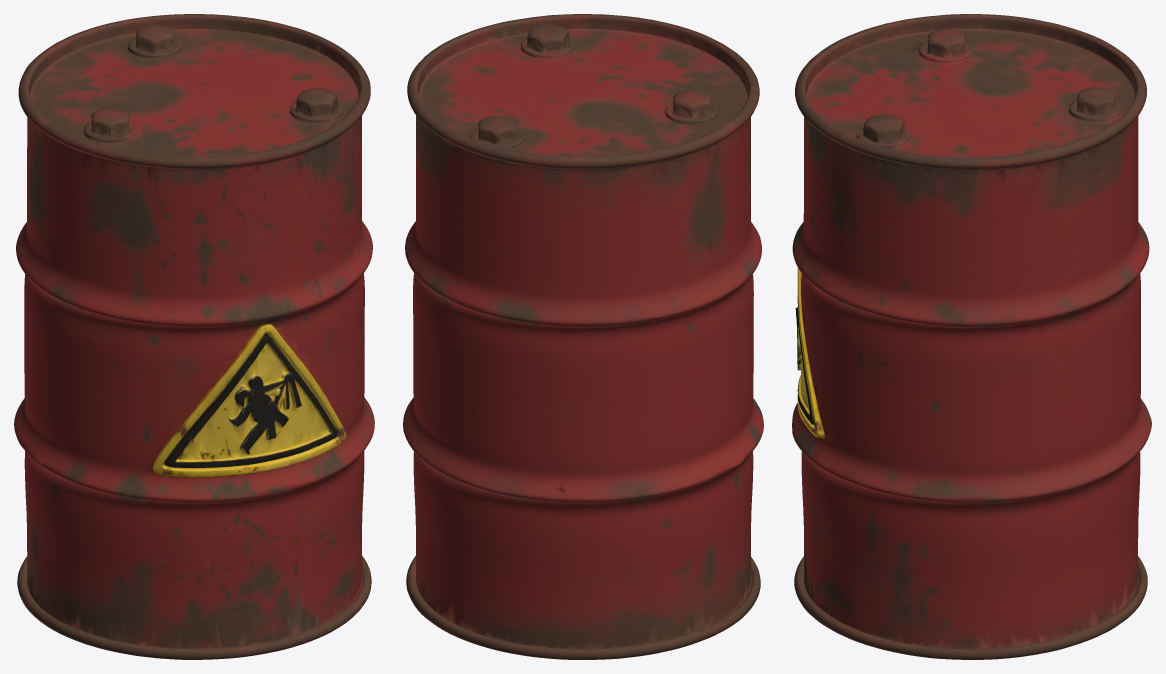
File: barrel.glb
The picture shows the model from 3 angles, left to right: view 1: azimuth 30°, elevation 25°; view 2: azimuth 150°, elevation 25°; view 3: azimuth 270°, elevation 25°; orthographic projection.
Parts seen in each view (by area): view 1: geometry_0; view 2: geometry_0; view 3: geometry_0.
Boxes of the visible parts, bbox=[...] form: geometry_0: bbox=[14, 14, 374, 659]; geometry_0: bbox=[403, 14, 763, 659]; geometry_0: bbox=[792, 14, 1151, 659].
Size of the model in its own units: 0.7077 by 1.1 by 0.7057.
Materials: 1 (1 with a texture image).
